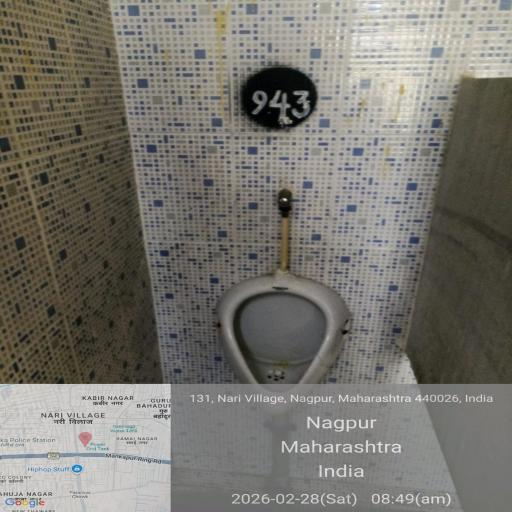clean_floor: (64, 41, 460, 229)
clean_urinal: (160, 269, 423, 463)
